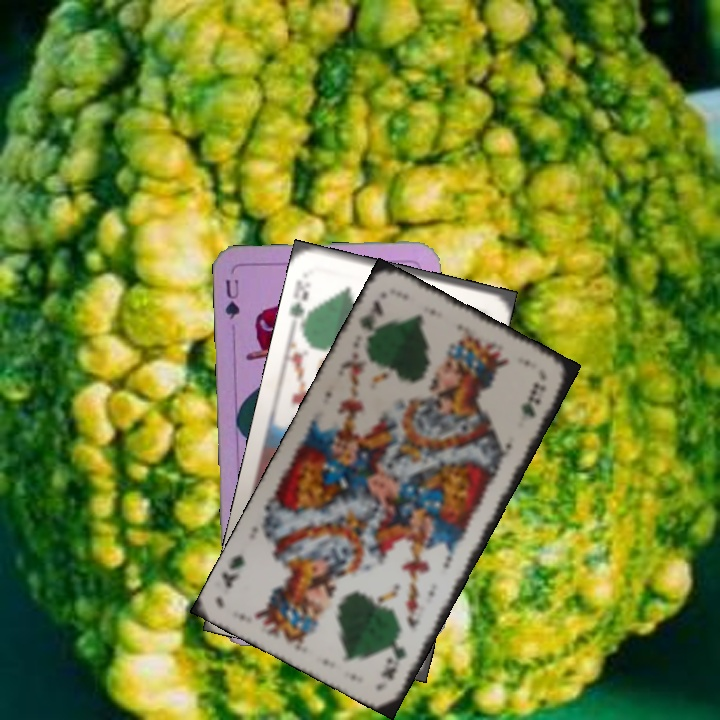GK: (376, 639, 410, 684), (285, 276, 313, 328), (355, 296, 386, 333)
GU: (221, 275, 243, 321)
